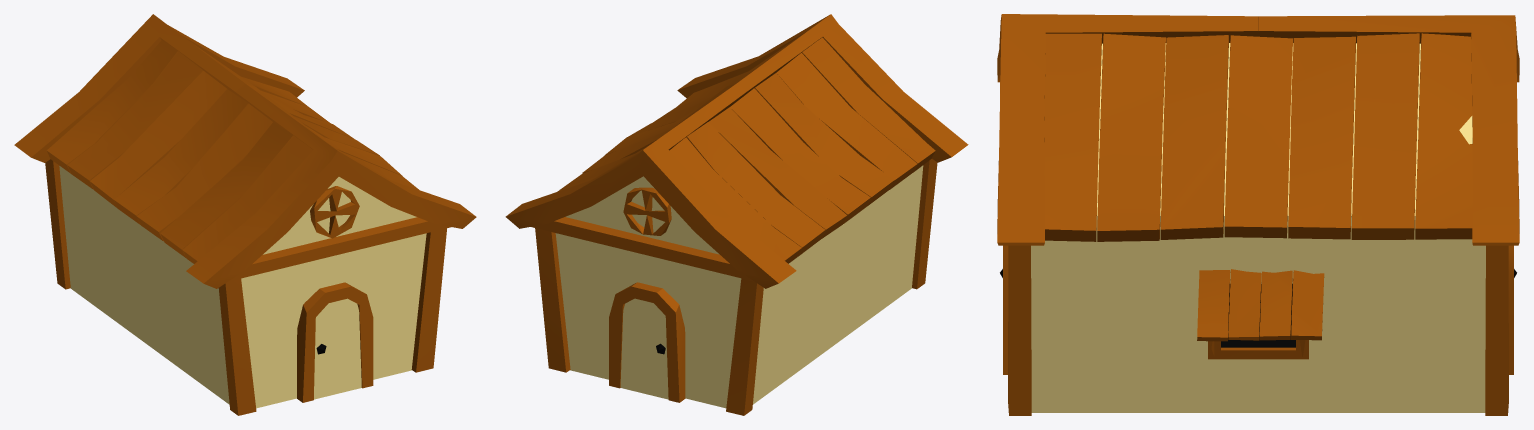
The model's file is SingleStoryHouse.fbx.
3 views of the same model, side by side, from view 1: azimuth 30°, elevation 25°; view 2: azimuth 150°, elevation 25°; view 3: azimuth 270°, elevation 25° (orthographic). The views are drawn at different scales.
Parts seen in each view (by area): view 1: SingleStoryHouse; view 2: SingleStoryHouse; view 3: SingleStoryHouse.
Part boxes in pixels (box(x1,y1,x2,y2)): SingleStoryHouse: box(14, 14, 476, 415); SingleStoryHouse: box(505, 14, 968, 415); SingleStoryHouse: box(997, 14, 1519, 415).
Bounding box in the file's own units: 3.84 × 3.26 × 4.59.
